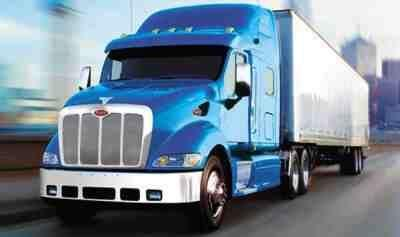truck: (39, 3, 372, 233)
